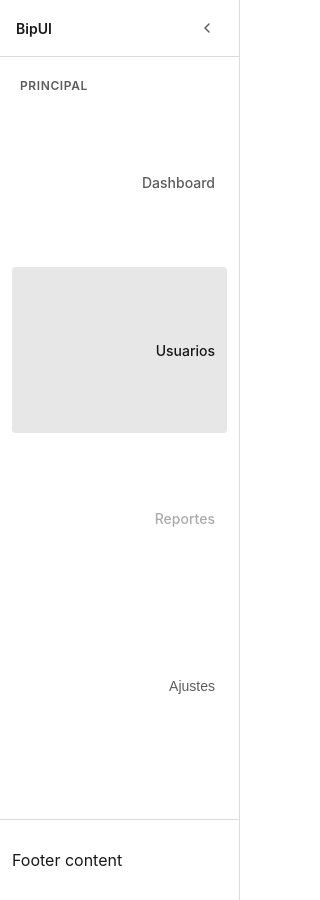
Test: Sidebar › SidebarTrigger toggles collapsed state and updates aria-label
This screenshot has width=320, height=900.
What coordinates should you click on to do the following:
click the button named "Colapsar sidebar"
I would click on:
 (207, 28)
Its box is [191,12,223,44].
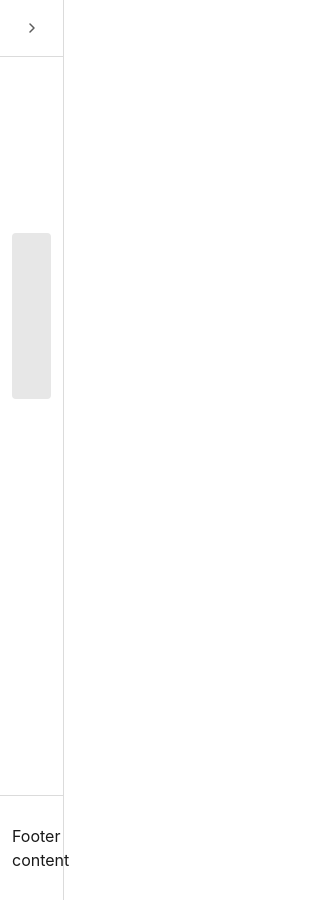
Expected: the button named "Expandir sidebar" is shown
What coordinates should you click on to do the following:
click the button named "Expandir sidebar"
I would click on:
 (32, 28)
Its box is [16,12,48,44].
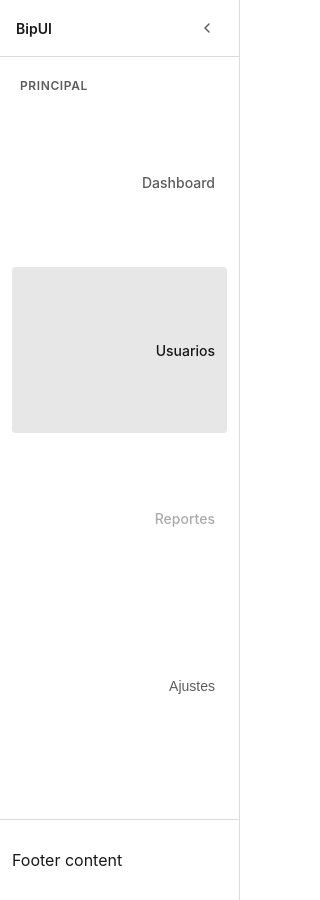
Expected: the button named "Colapsar sidebar" is shown, [191,12,223,44]
